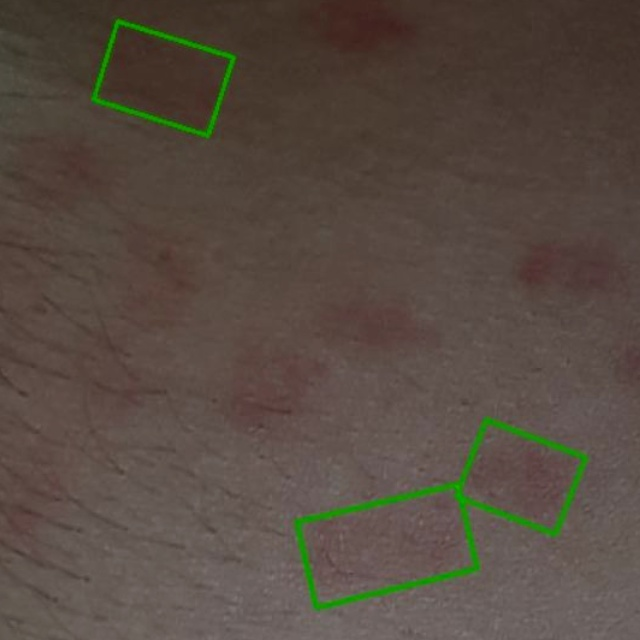Tinea Corporis: (296, 484, 476, 607), (92, 21, 232, 136), (455, 420, 584, 535)
